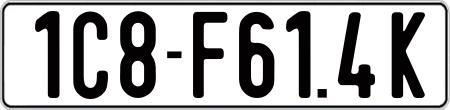1: (32, 11, 60, 100), (284, 10, 310, 103)
4: (337, 11, 379, 101)
6: (239, 9, 277, 101)
8: (119, 9, 156, 96)
C: (72, 10, 113, 101)
F: (192, 9, 226, 99)
K: (392, 9, 425, 100)
